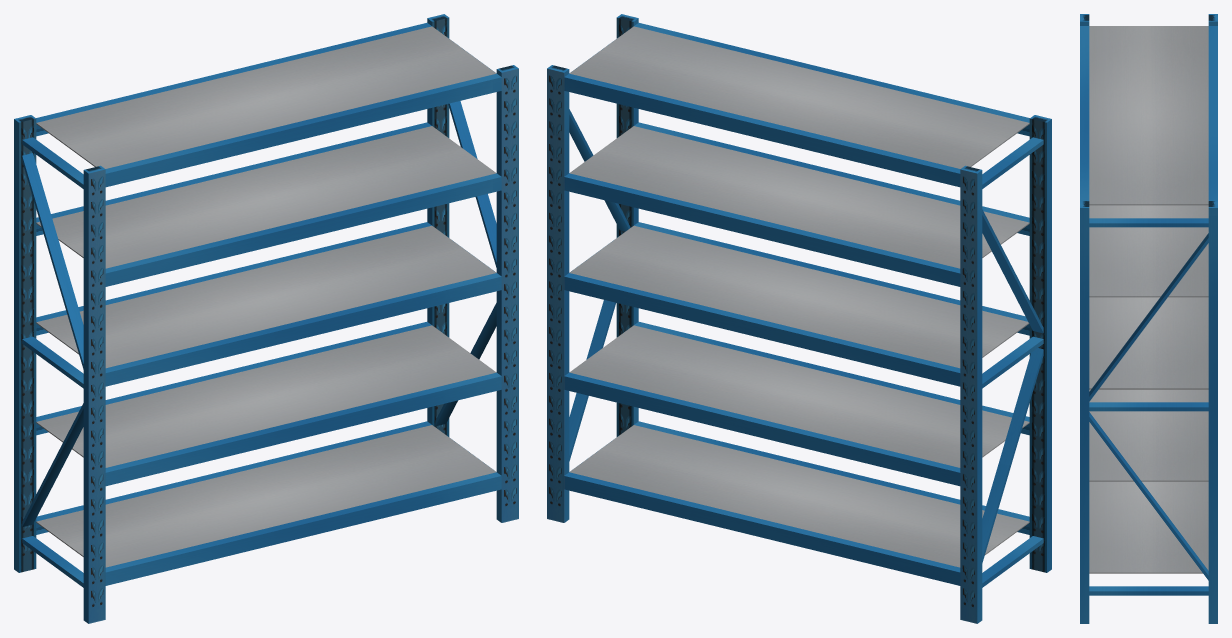
The model's file is LANSE_WU.obj.
The picture shows the model from 3 angles, left to right: view 1: azimuth 30°, elevation 25°; view 2: azimuth 150°, elevation 25°; view 3: azimuth 270°, elevation 25°; orthographic projection. The views are drawn at different scales.
Visible parts, largest first — view 1: Mesh1; view 2: Mesh1; view 3: Mesh1.
Part boxes in pixels (x1,y1,x2,y2): Mesh1: [14, 14, 518, 623]; Mesh1: [547, 14, 1051, 623]; Mesh1: [1080, 14, 1217, 623].
Size of the model in its own units: 2000 by 2000 by 600.
Materials: 1 (1 with a texture image).
